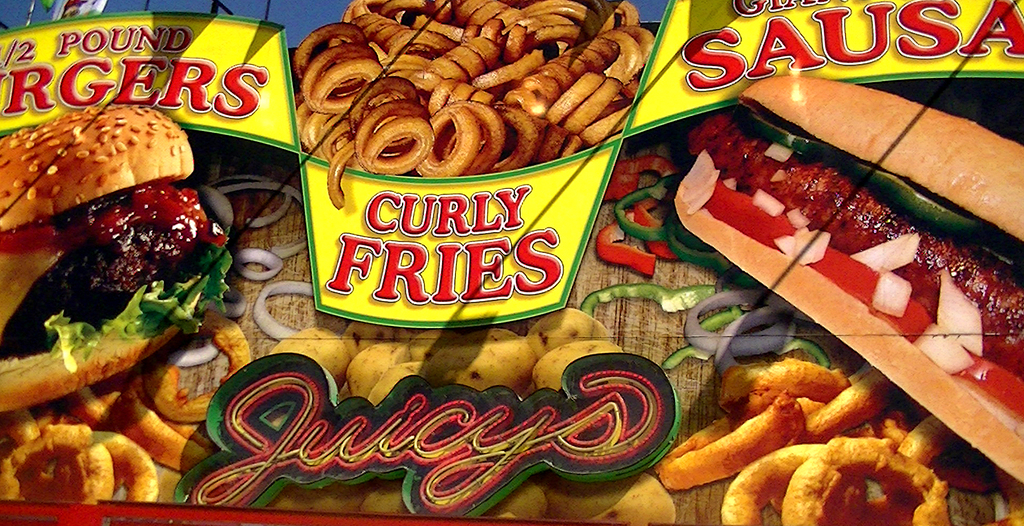French fries: (293, 0, 661, 207), (633, 330, 956, 509), (3, 319, 251, 509)
